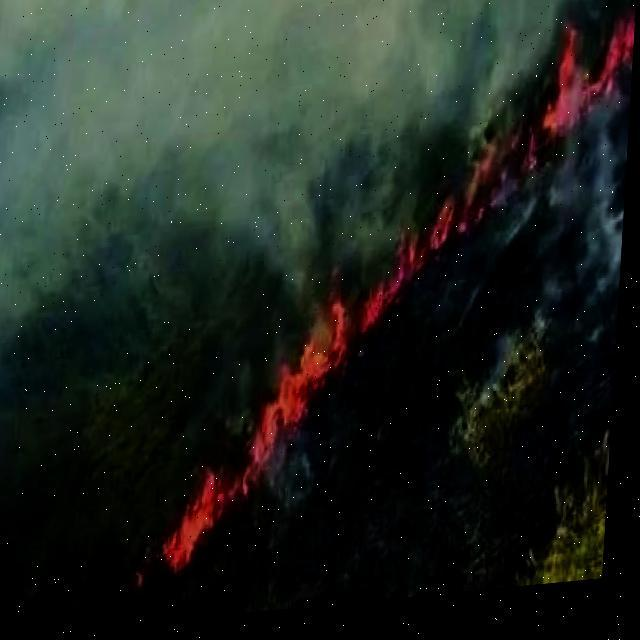Fire: (166, 31, 635, 575)
